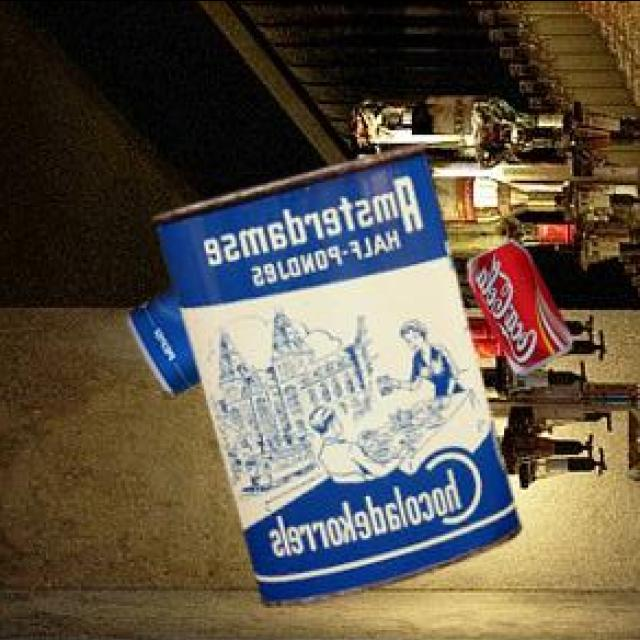logam: (150, 139, 518, 602), (464, 236, 569, 369), (126, 284, 198, 389)
